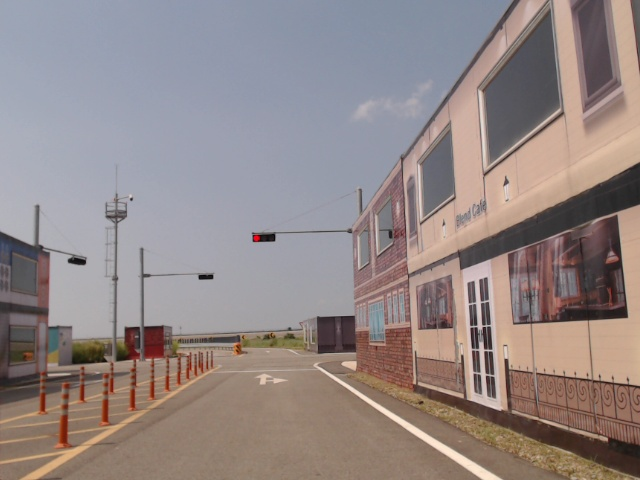red_3: (252, 234, 275, 243)
